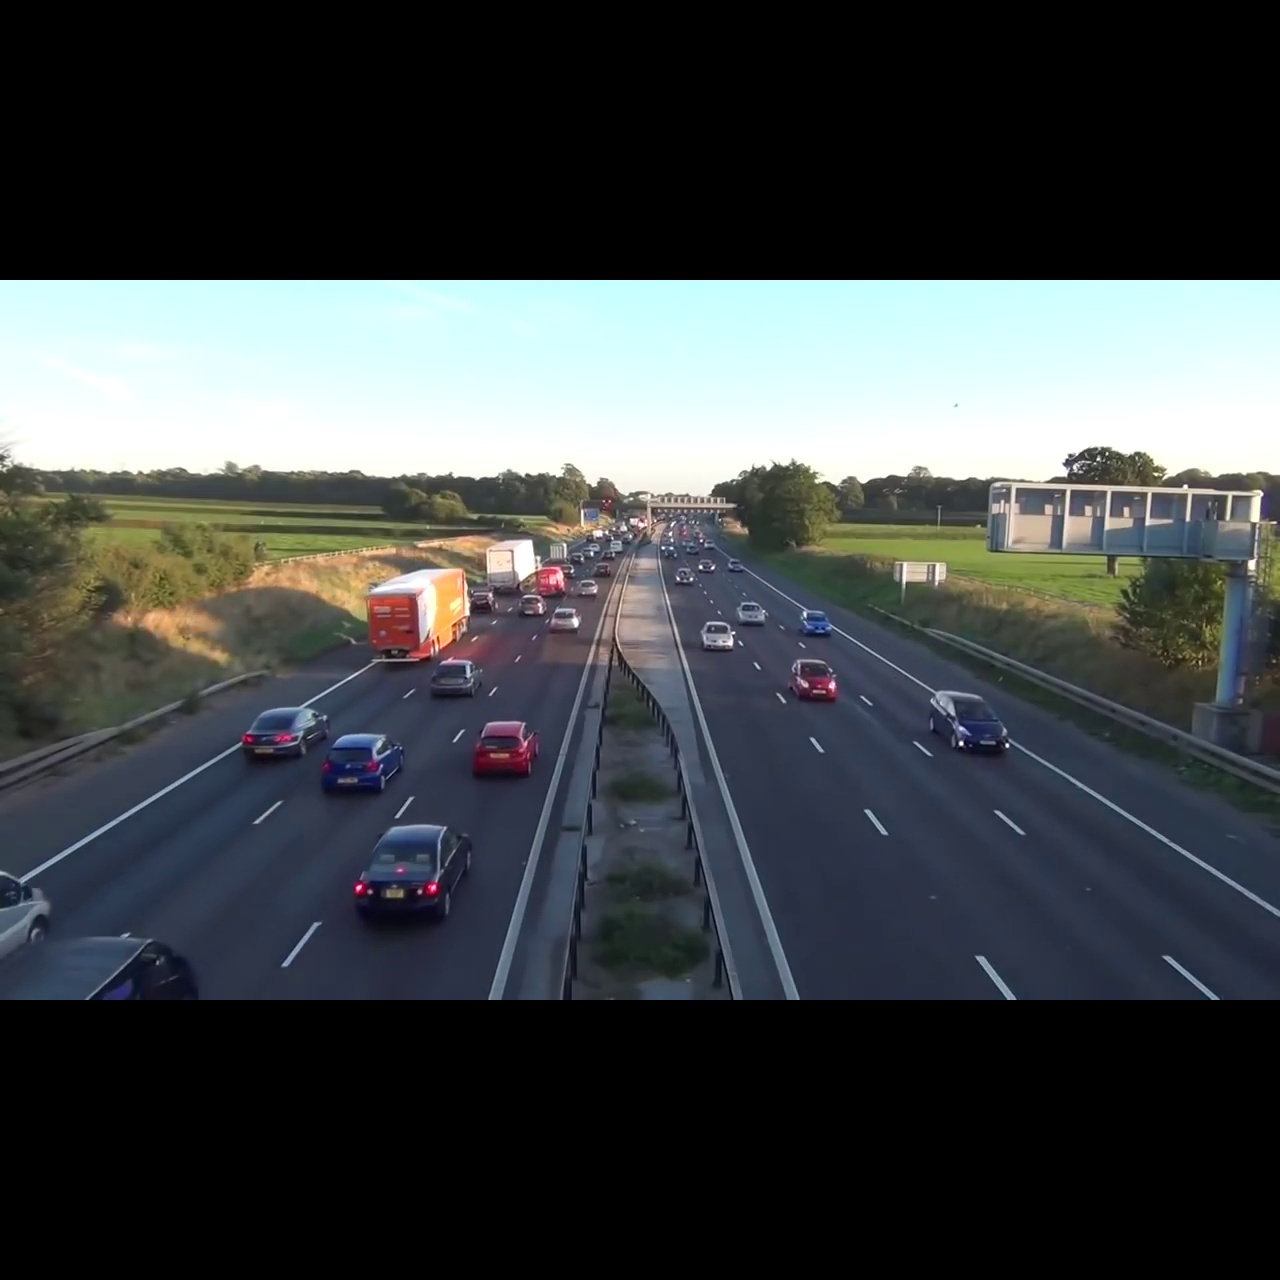vehicle: (349, 818, 482, 926), (365, 567, 474, 665), (925, 686, 1014, 757), (319, 731, 411, 797), (239, 704, 334, 761), (467, 719, 545, 782), (425, 655, 485, 701), (485, 537, 536, 591), (788, 655, 840, 704), (697, 618, 738, 655), (796, 606, 837, 639), (549, 607, 585, 634), (735, 599, 765, 627), (517, 593, 549, 617), (471, 587, 499, 613), (577, 579, 599, 598), (675, 568, 696, 586), (697, 558, 719, 574), (727, 558, 745, 574)
